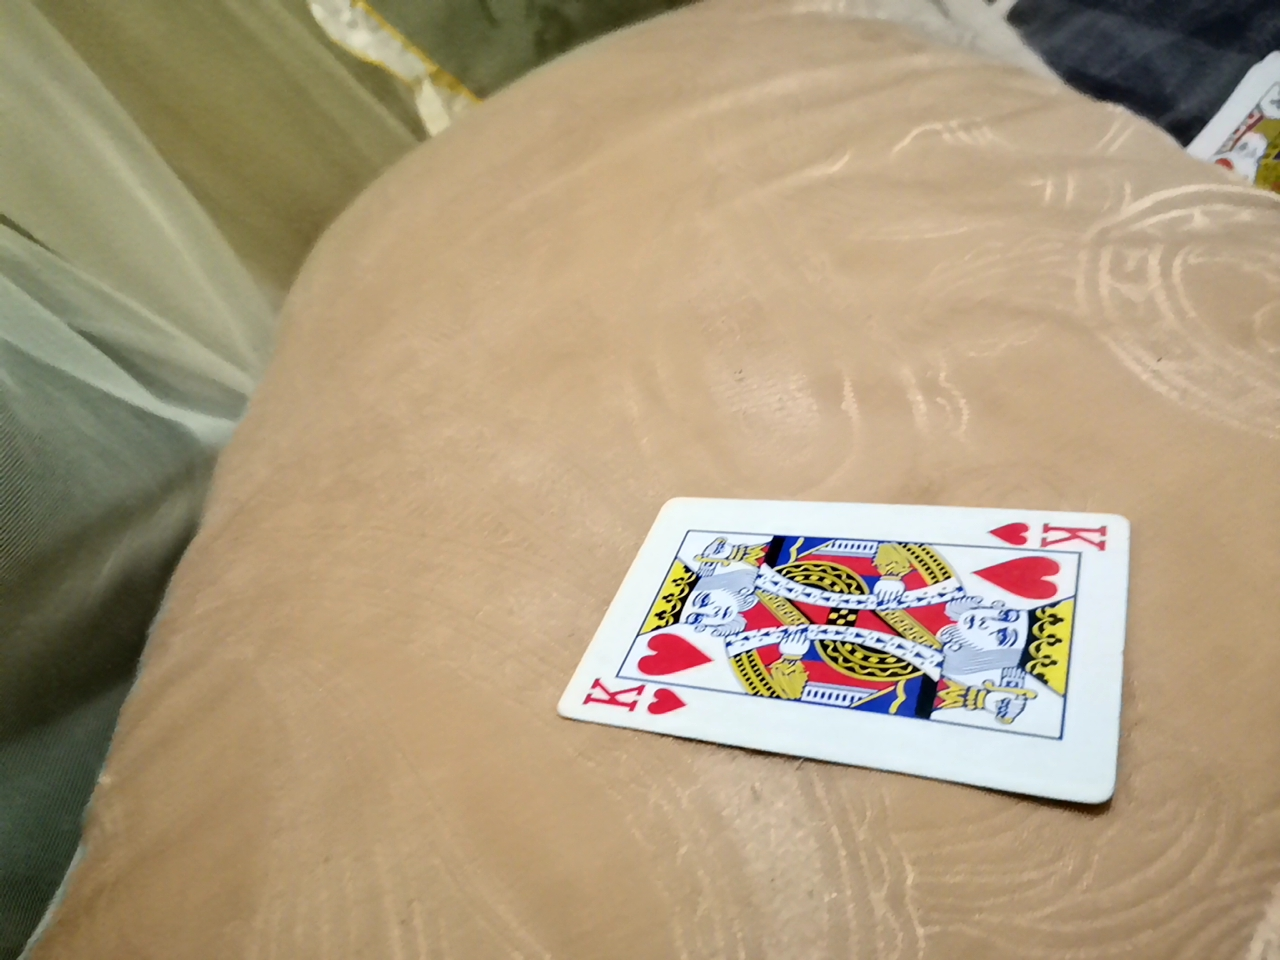hx k: (571, 489, 1138, 788)
